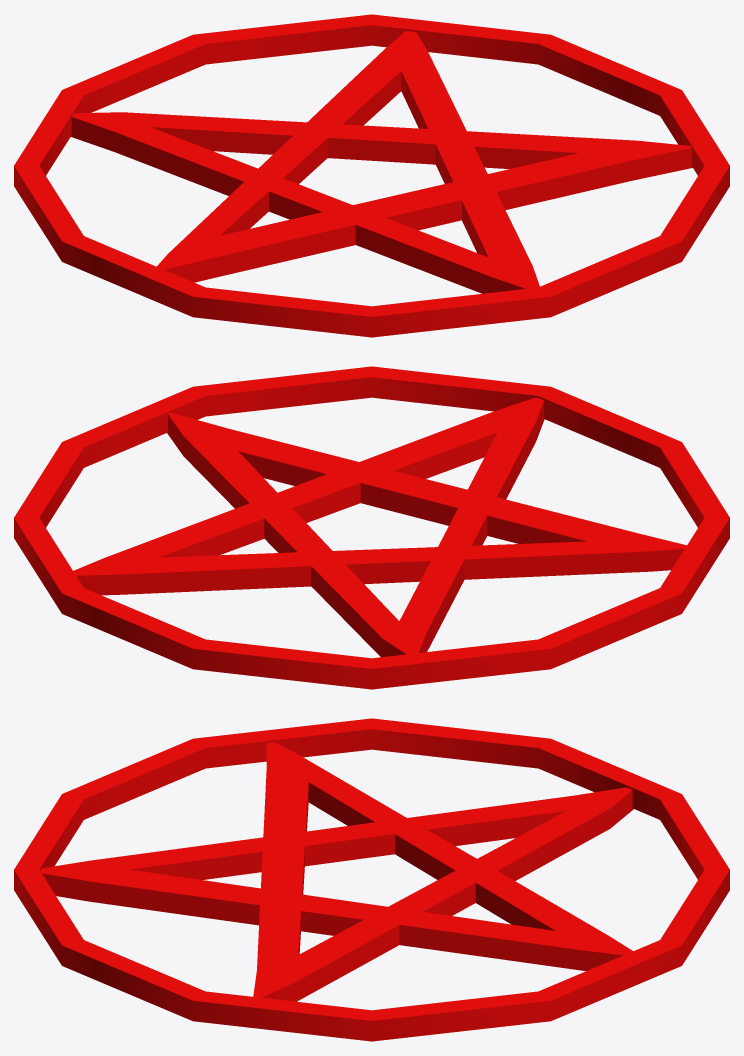
Rendered from pentagram2.FBX.
The picture shows the model from 3 angles, top to bottom: view 1: azimuth 30°, elevation 25°; view 2: azimuth 150°, elevation 25°; view 3: azimuth 270°, elevation 25°; orthographic projection.
Visible parts, largest first — view 1: pentagram2; view 2: pentagram2; view 3: pentagram2.
Part boxes in pixels (box(x1,y1,x2,y2)): pentagram2: box(14, 14, 729, 337); pentagram2: box(14, 366, 729, 689); pentagram2: box(14, 718, 729, 1041).
Bounding box in the file's own units: 1173 × 40.4 × 1173.
